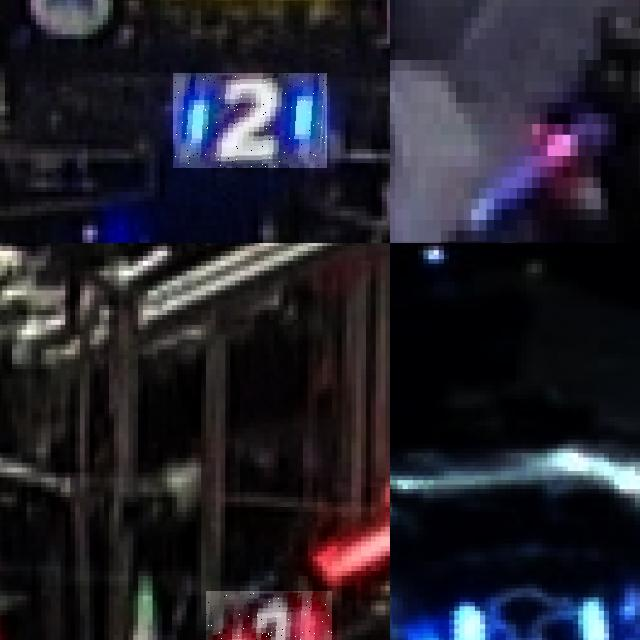B2: (173, 73, 327, 168)
Bs: (449, 597, 609, 640)
R2: (206, 590, 332, 640)
